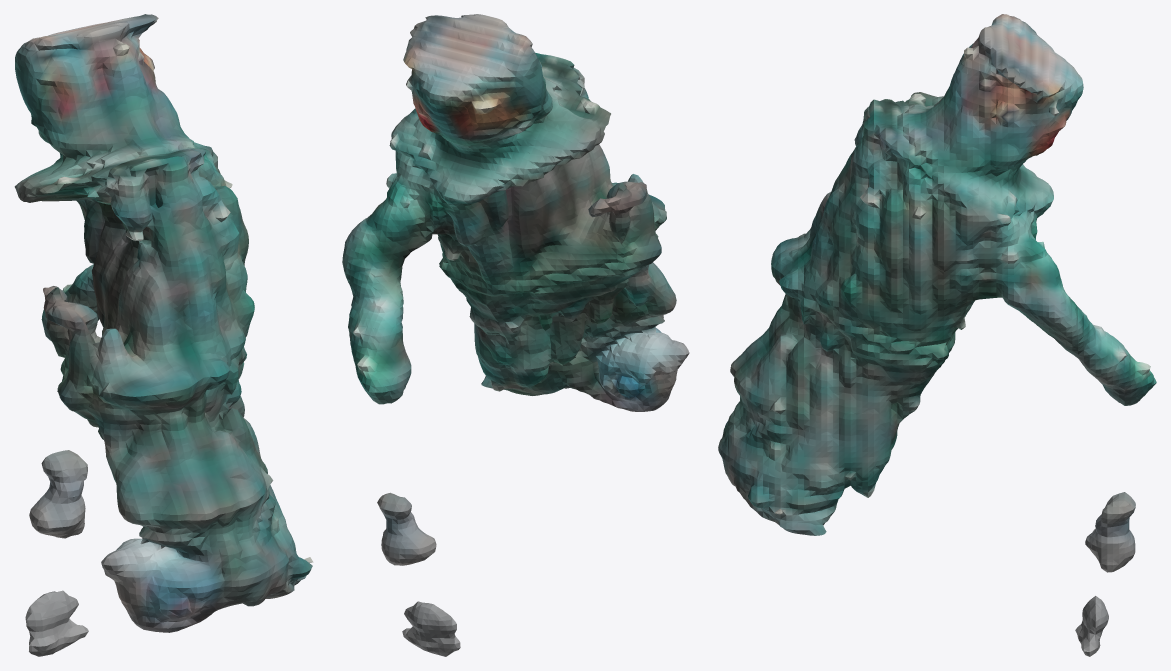
Rendered from tmpmi9bxks2.glb.
3 renders of one model, left to right at view 1: azimuth 30°, elevation 25°; view 2: azimuth 150°, elevation 25°; view 3: azimuth 270°, elevation 25°, orthographic. The views are drawn at different scales.
Parts seen in each view (by area): view 1: world; view 2: world; view 3: world.
Boxes of the visible parts, bbox=[...] form: world: bbox=[14, 14, 313, 656]; world: bbox=[342, 14, 689, 656]; world: bbox=[718, 14, 1156, 656].
Size of the model in its own units: 0.2942 by 0.7954 by 0.5131.
